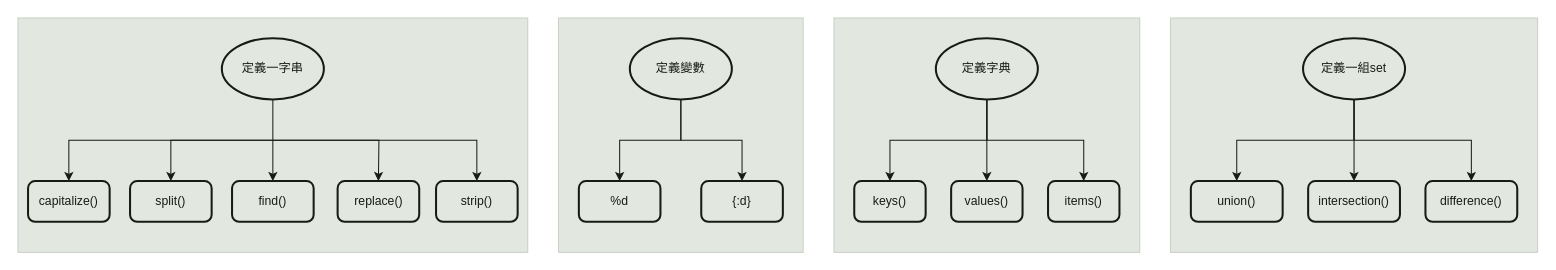
This 1556x270 diagram has some shape labels left out. The centre of each missing label's shape, as x and y in pixels:
"dictionary" belongs at pixel 986 134.
"print" belongs at pixel 680 134.
"set" belongs at pixel 1353 134.
"String" belongs at pixel 272 134.
